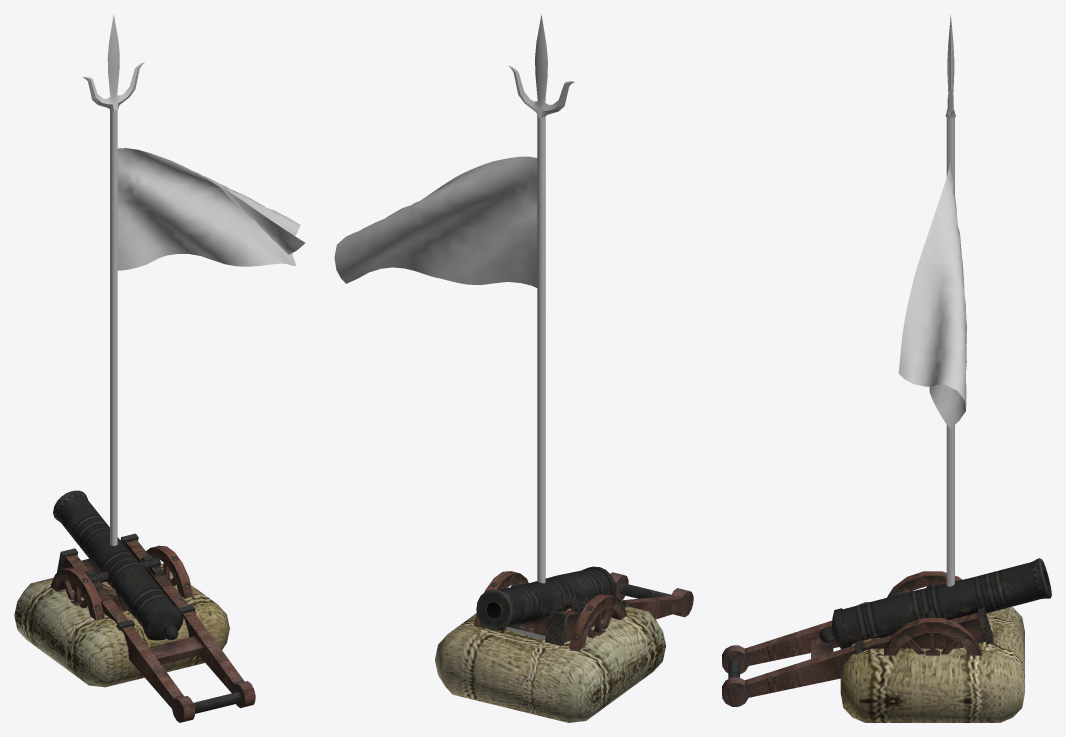
Rendered from KoreanMansion_Props.FBX.
3 views of the same model, side by side, from view 1: azimuth 30°, elevation 25°; view 2: azimuth 150°, elevation 25°; view 3: azimuth 270°, elevation 25° (orthographic). The views are drawn at different scales.
Visible parts, largest first — view 1: Cannon011, Ghamhany_, Flag_Blue_Silk001, Flag_White_Silk001, Flag_Red_Spear, Flag_white_Spear; view 2: Flag_White_Silk001, Ghamhany_, Cannon011, Flag_Red_Spear, Flag_white_Spear; view 3: Cannon011, Ghamhany_, Flag_White_Silk001, Flag_Blue_Silk001, Flag_white_Spear.
Part boxes in pixels (bbox=[...]): Cannon011: bbox=[50, 490, 255, 722]; Ghamhany_: bbox=[14, 563, 229, 687]; Flag_Blue_Silk001: bbox=[117, 148, 300, 267]; Flag_White_Silk001: bbox=[117, 148, 305, 270]; Flag_Red_Spear: bbox=[83, 15, 144, 545]; Flag_white_Spear: bbox=[86, 14, 144, 545]; Flag_White_Silk001: bbox=[334, 156, 537, 287]; Ghamhany_: bbox=[435, 606, 665, 722]; Cannon011: bbox=[474, 566, 693, 651]; Flag_Red_Spear: bbox=[507, 14, 574, 631]; Flag_white_Spear: bbox=[507, 16, 570, 639]; Cannon011: bbox=[722, 558, 1051, 706]; Ghamhany_: bbox=[840, 602, 1024, 722]; Flag_White_Silk001: bbox=[899, 162, 966, 409]; Flag_Blue_Silk001: bbox=[898, 163, 965, 428]; Flag_white_Spear: bbox=[945, 14, 955, 586].
Bounding box in the file's own units: 236 × 545 × 239.
